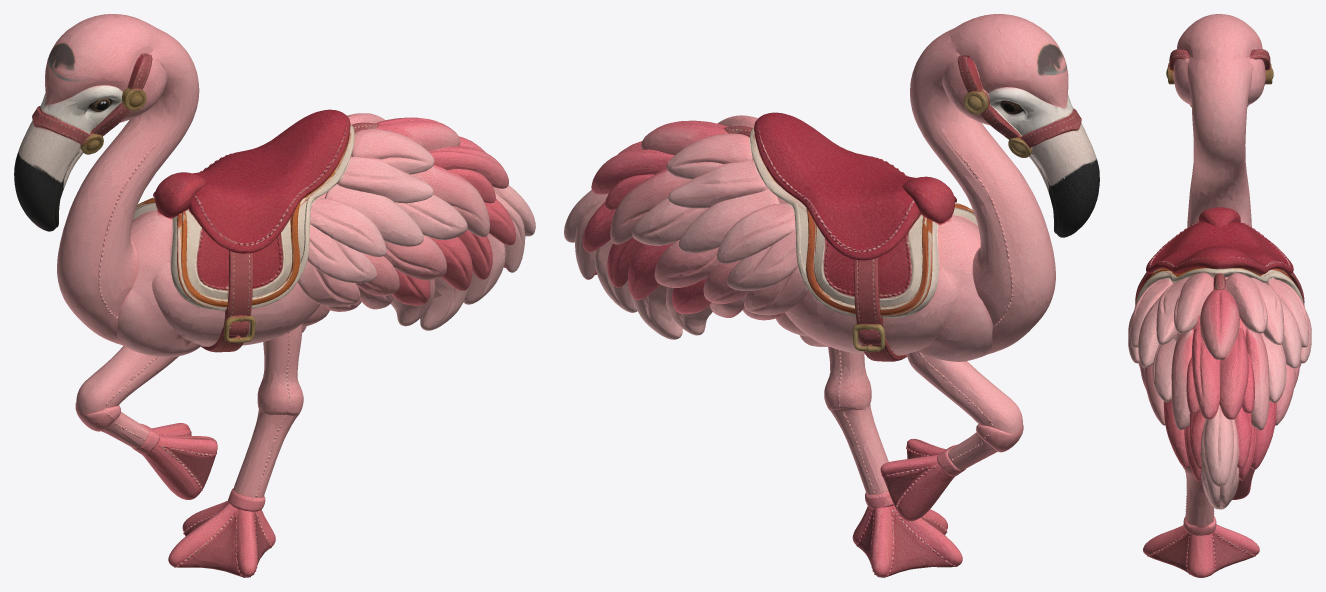
File: flamingo.glb
3 renders of one model, left to right at view 1: azimuth 30°, elevation 25°; view 2: azimuth 150°, elevation 25°; view 3: azimuth 270°, elevation 25°, orthographic. The views are drawn at different scales.
Bounding box in the file's own units: 1.85 × 1.9 × 0.6403.
Materials: 1 (1 with a texture image).
